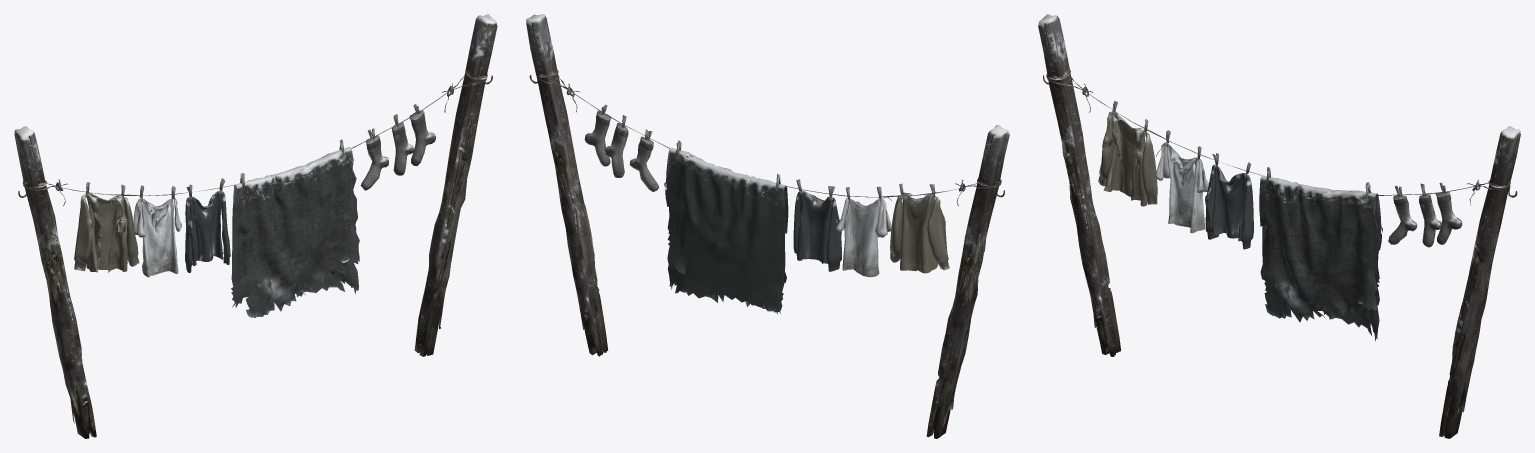
The model's file is jt_laundry_line.glb.
The picture shows the model from 3 angles, left to right: view 1: azimuth 30°, elevation 25°; view 2: azimuth 150°, elevation 25°; view 3: azimuth 330°, elevation 25°; orthographic projection.
Bounding box in the file's own units: 0.9526 × 0.6162 × 0.0537.
1 material, 1 textured.
